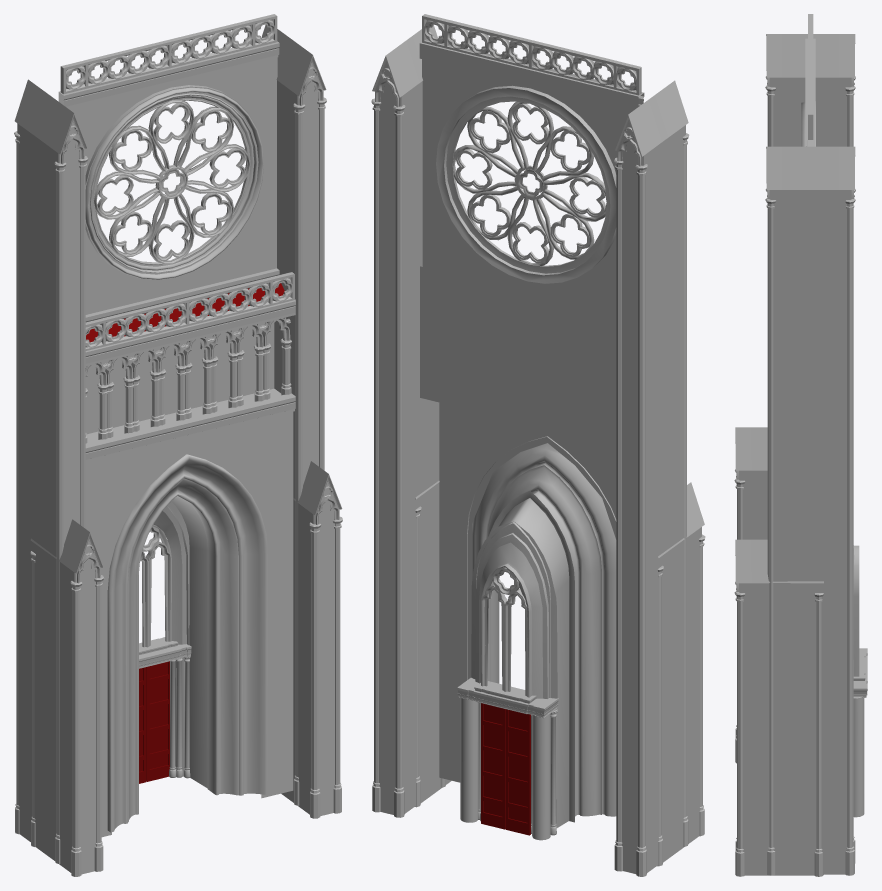
Rendered from entrance_002.glb.
The picture shows the model from 3 angles, left to right: view 1: azimuth 30°, elevation 25°; view 2: azimuth 150°, elevation 25°; view 3: azimuth 270°, elevation 25°; orthographic projection. The views are drawn at different scales.
Visible parts, largest first — view 1: entrance_002; view 2: entrance_002; view 3: entrance_002.
Boxes of the visible parts, box(x1,y1,x2,y2) form: entrance_002: box(14, 14, 342, 876); entrance_002: box(371, 14, 705, 876); entrance_002: box(734, 14, 867, 876).
Bounding box in the file's own units: 2.59 × 7.06 × 1.14.
